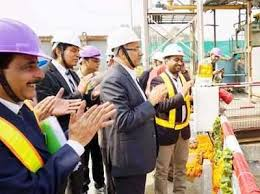Person_wearing_helmet: (104, 23, 142, 57), (50, 26, 84, 52), (160, 41, 185, 62), (205, 42, 220, 55)
